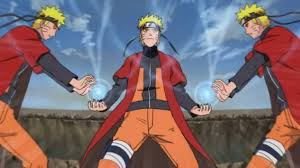Naruto: (31, 7, 68, 44), (238, 5, 273, 40), (136, 14, 166, 53)
